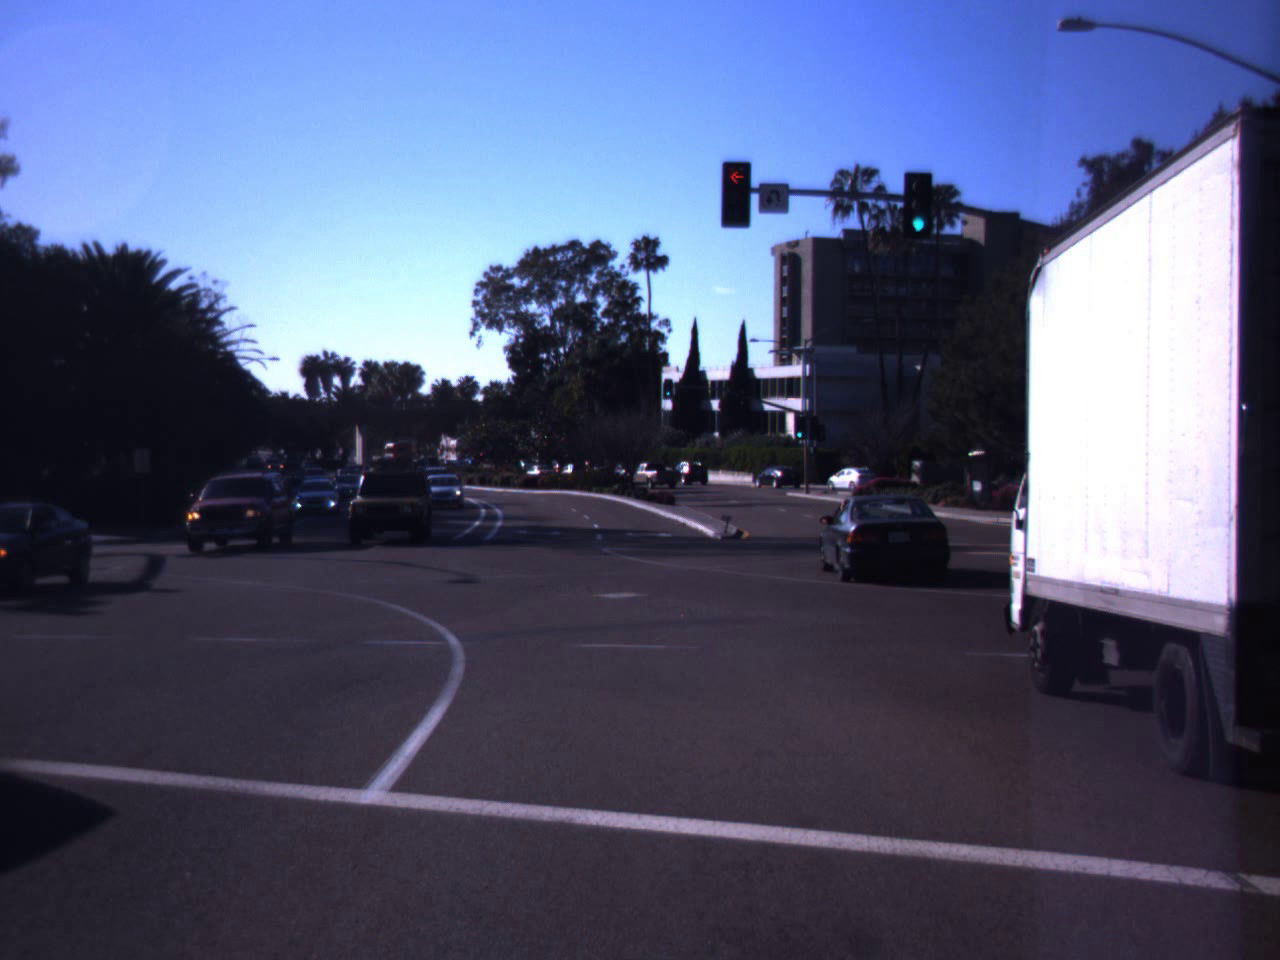go: (906, 185, 930, 235)
stop: (711, 162, 765, 225)
